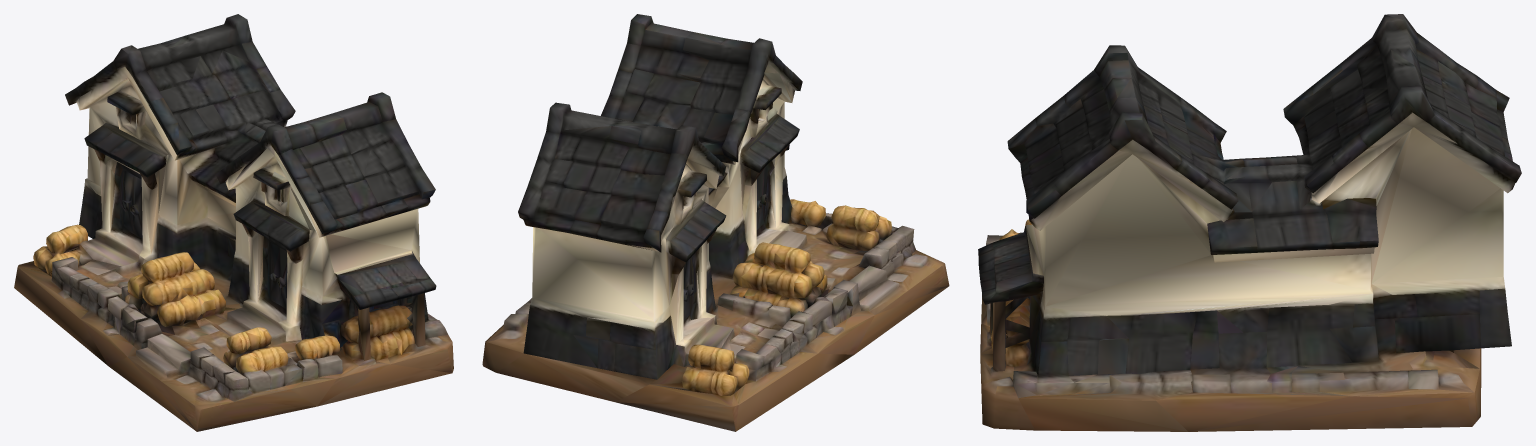
The model's file is kura_t3.glb.
3 views of the same model, side by side, from view 1: azimuth 30°, elevation 25°; view 2: azimuth 150°, elevation 25°; view 3: azimuth 270°, elevation 25° (orthographic). The views are drawn at different scales.
Parts seen in each view (by area): view 1: tripo_node_26a382ca-e04d-4d4d-bd0b-77e284a2434a; view 2: tripo_node_26a382ca-e04d-4d4d-bd0b-77e284a2434a; view 3: tripo_node_26a382ca-e04d-4d4d-bd0b-77e284a2434a.
Part boxes in pixels (left/top/right/bottom): tripo_node_26a382ca-e04d-4d4d-bd0b-77e284a2434a: left=14, top=14, right=453, bottom=431; tripo_node_26a382ca-e04d-4d4d-bd0b-77e284a2434a: left=482, top=14, right=949, bottom=431; tripo_node_26a382ca-e04d-4d4d-bd0b-77e284a2434a: left=978, top=14, right=1521, bottom=431.
Bounding box in the file's own units: 0.6941 × 0.6127 × 0.9765.
Materials: 1 (1 with a texture image).
